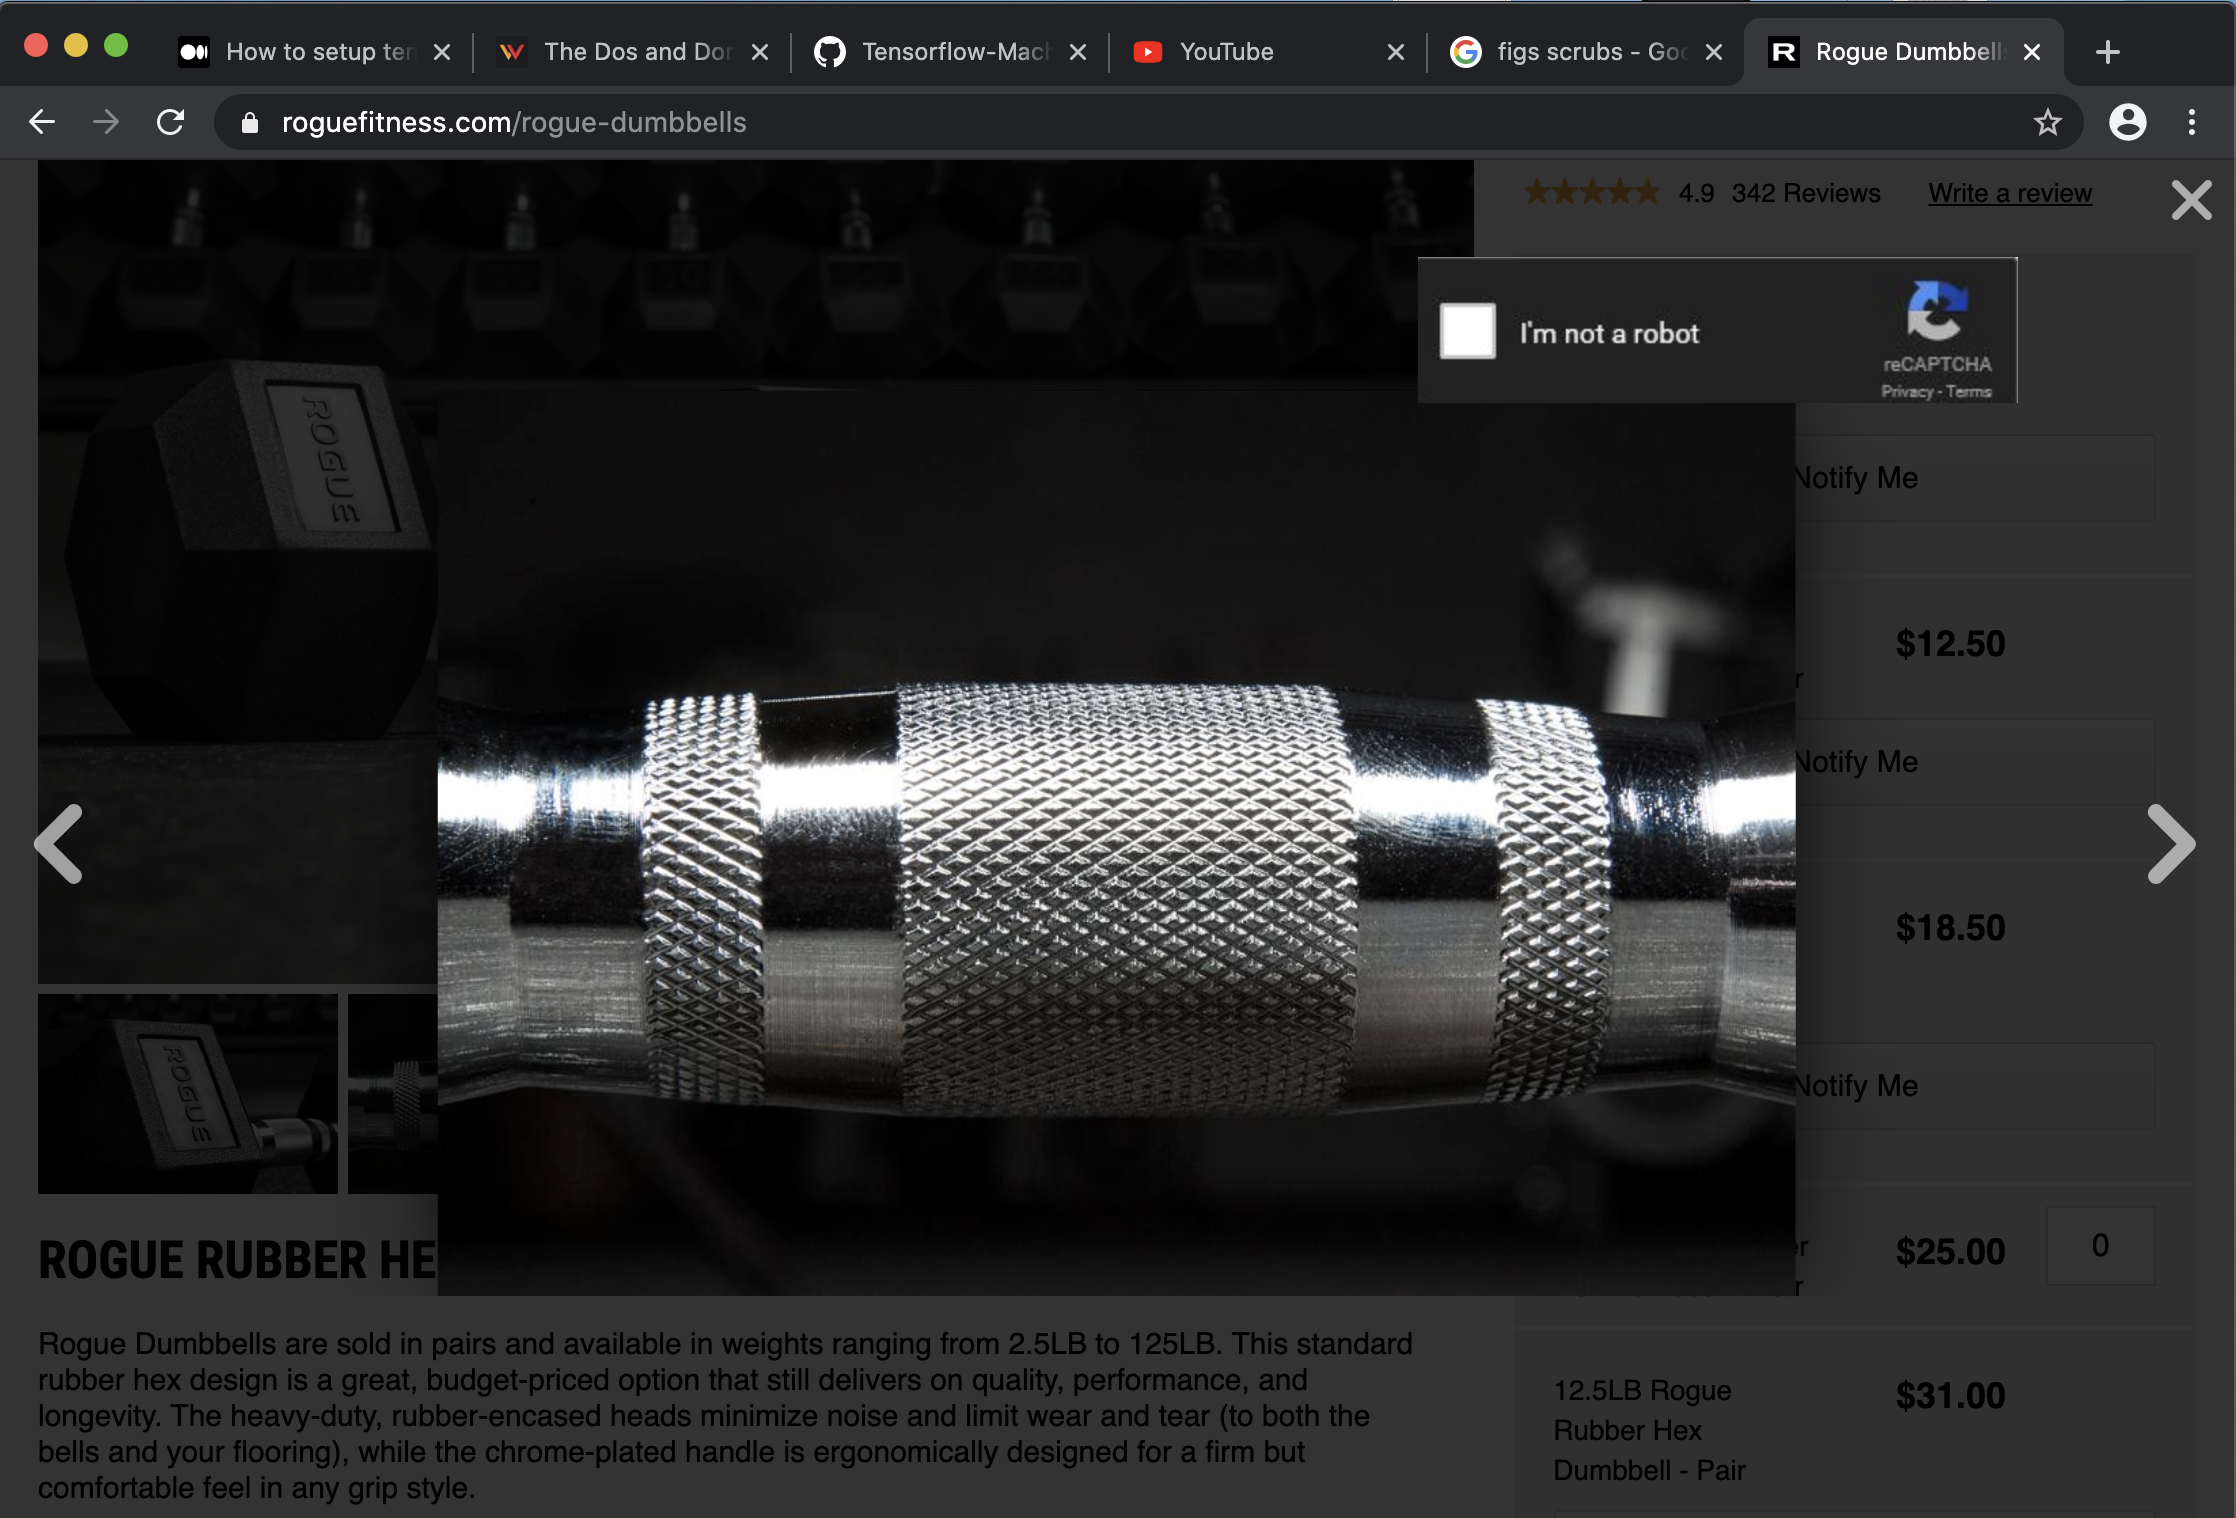captcha: (1397, 237, 2041, 425)
